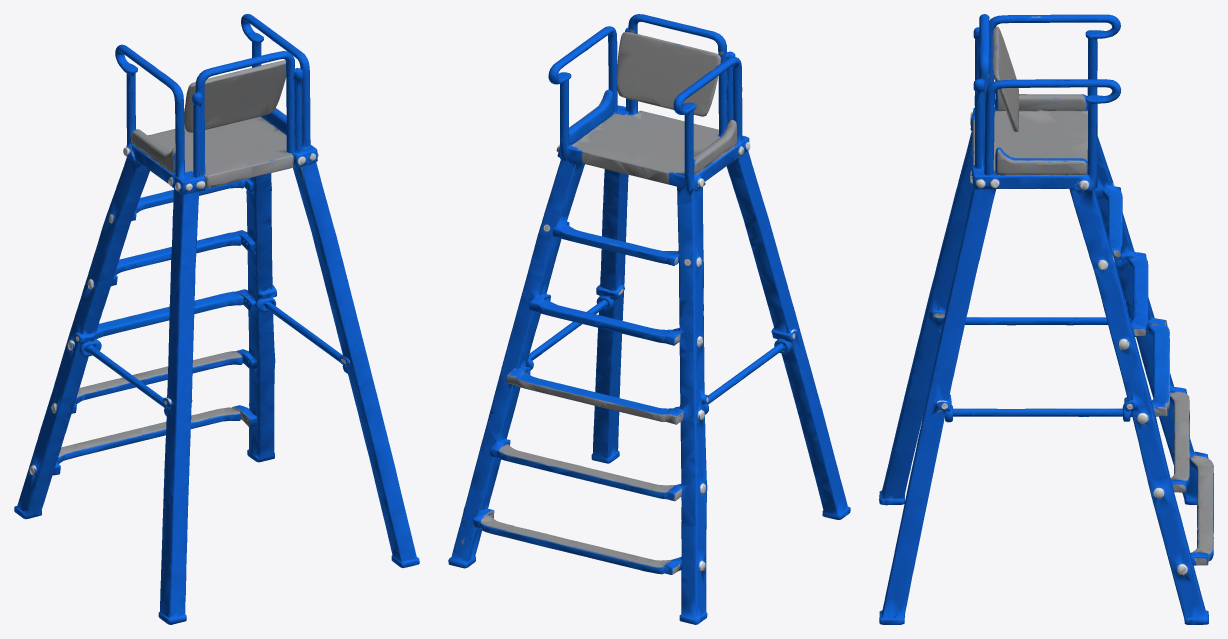
File: referee_stand.glb
3 renders of one model, left to right at view 1: azimuth 30°, elevation 25°; view 2: azimuth 150°, elevation 25°; view 3: azimuth 270°, elevation 25°, orthographic. The views are drawn at different scales.
Parts seen in each view (by area): view 1: referee_stand; view 2: referee_stand; view 3: referee_stand.
Boxes of the visible parts, bbox=[...] form: referee_stand: bbox=[14, 14, 419, 624]; referee_stand: bbox=[448, 14, 850, 624]; referee_stand: bbox=[879, 14, 1213, 624].
Bounding box in the file's own units: 0.9704 × 1.84 × 1.06.
Materials: 1 (1 with a texture image).
